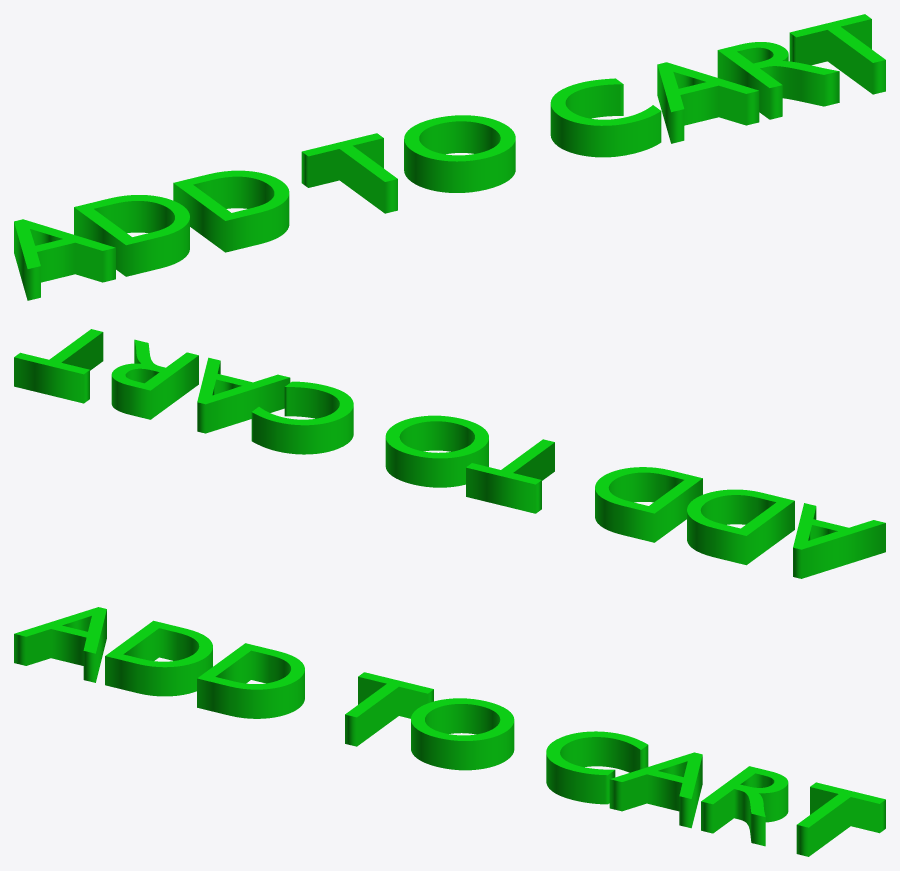
The model's file is addtocart.fbx.
3 views of the same model, one above another, from view 1: azimuth 30°, elevation 25°; view 2: azimuth 150°, elevation 25°; view 3: azimuth 330°, elevation 25° (orthographic). The views are drawn at different scales.
Parts seen in each view (by area): view 1: Text; view 2: Text; view 3: Text.
Boxes of the visible parts, box(x1,y1,x2,y2) form: Text: box(14, 14, 885, 300); Text: box(14, 329, 885, 578); Text: box(14, 607, 885, 856).
Bounding box in the file's own units: 672 × 22.8 × 70.
